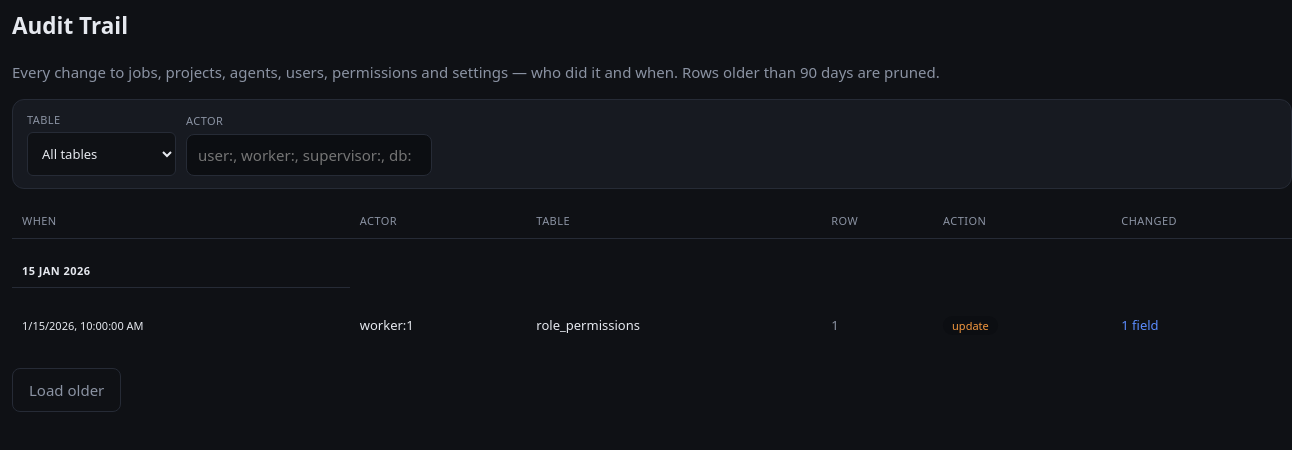
Test case: AdminAudit › collapses the Changed column behind a title + expander
Check: the text "name: old → new" is not shown
Step 1. Click the button "1 field" → [1140, 326], box [1121,304,1159,348]
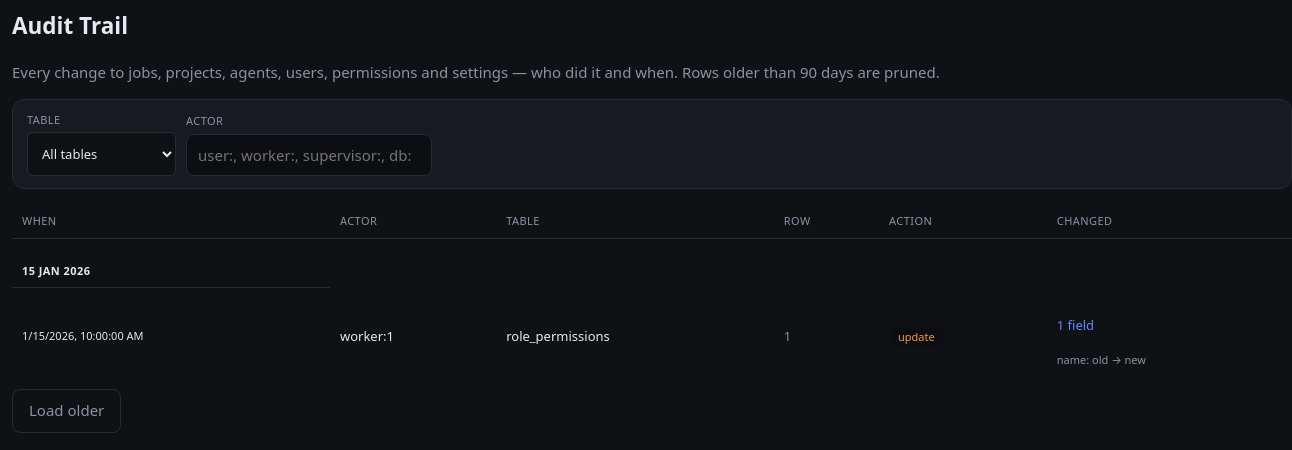
Check: the text "name: old → new" is shown, box [1057,352,1146,367]
